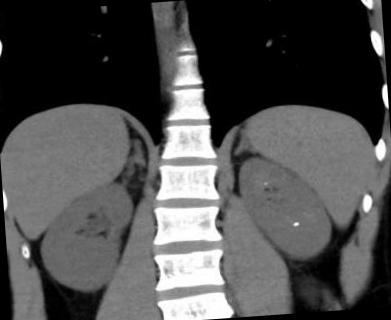Tas_Var: (290, 220, 300, 228), (262, 180, 268, 187)
